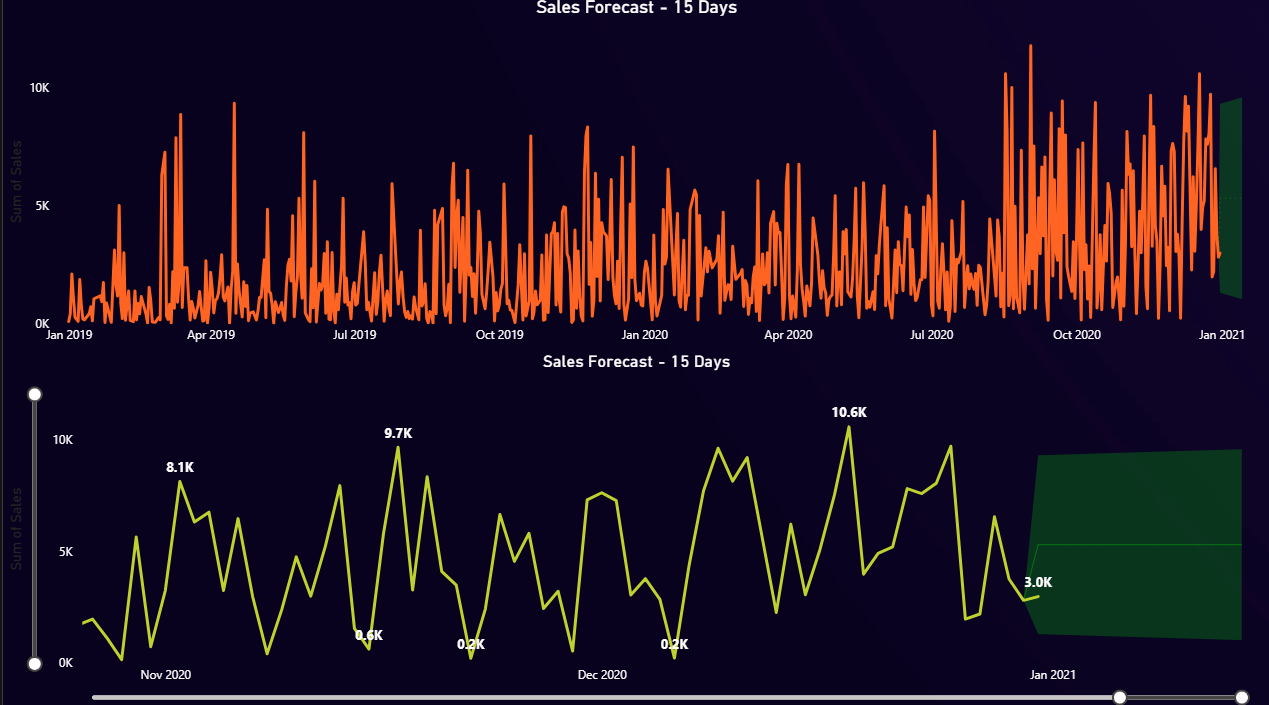

What the dashboard file says about the page in this screenshot:
{"tool":"powerbi","page":{"name":"Sales Forecast","canvas":[1280,720],"ordinal":1},"visuals":[{"type":"lineChart","title":"Sales Forecast - 15 Days","fields":{"Category":["SuperStore Sales DataSet.Order Date"],"Y":["Sum(SuperStore Sales DataSet.Sales)"]},"box":[0,0,1279.5,360.4],"z":0},{"type":"lineChart","title":"Sales Forecast - 15 Days","fields":{"Category":["SuperStore Sales DataSet.Order Date"],"Y":["Sum(SuperStore Sales DataSet.Sales)"]},"box":[0.5,358.9,1279.5,360.4],"z":1000}]}

Visuals, with their boxes in screenshot pixels (x1, y1, x2, y2), scaled from the page's 1280x720 canvas onto the 1269x705 screenshot:
"Sales Forecast - 15 Days" lineChart: 0 0 1268 353
"Sales Forecast - 15 Days" lineChart: 0 351 1268 704
